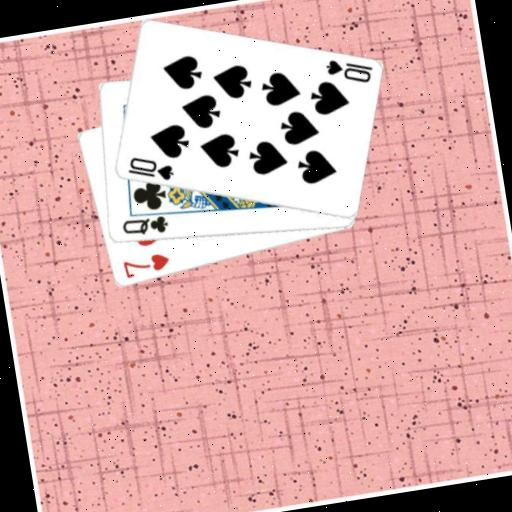10S: (320, 51, 375, 91), (122, 148, 176, 188)
7H: (118, 249, 172, 280)
QC: (118, 210, 171, 241)
